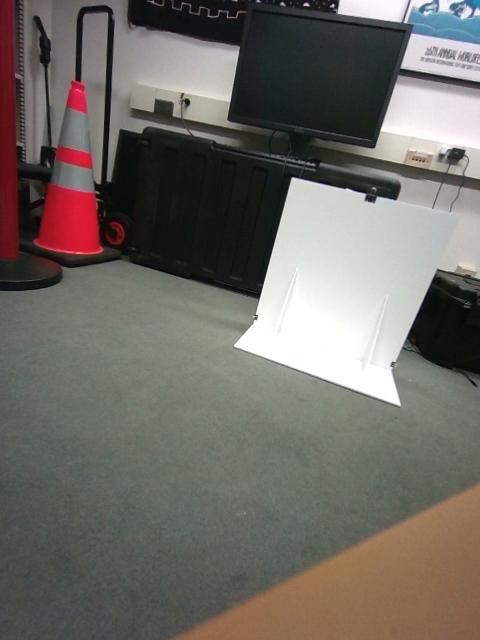block: (158, 284, 187, 349)
